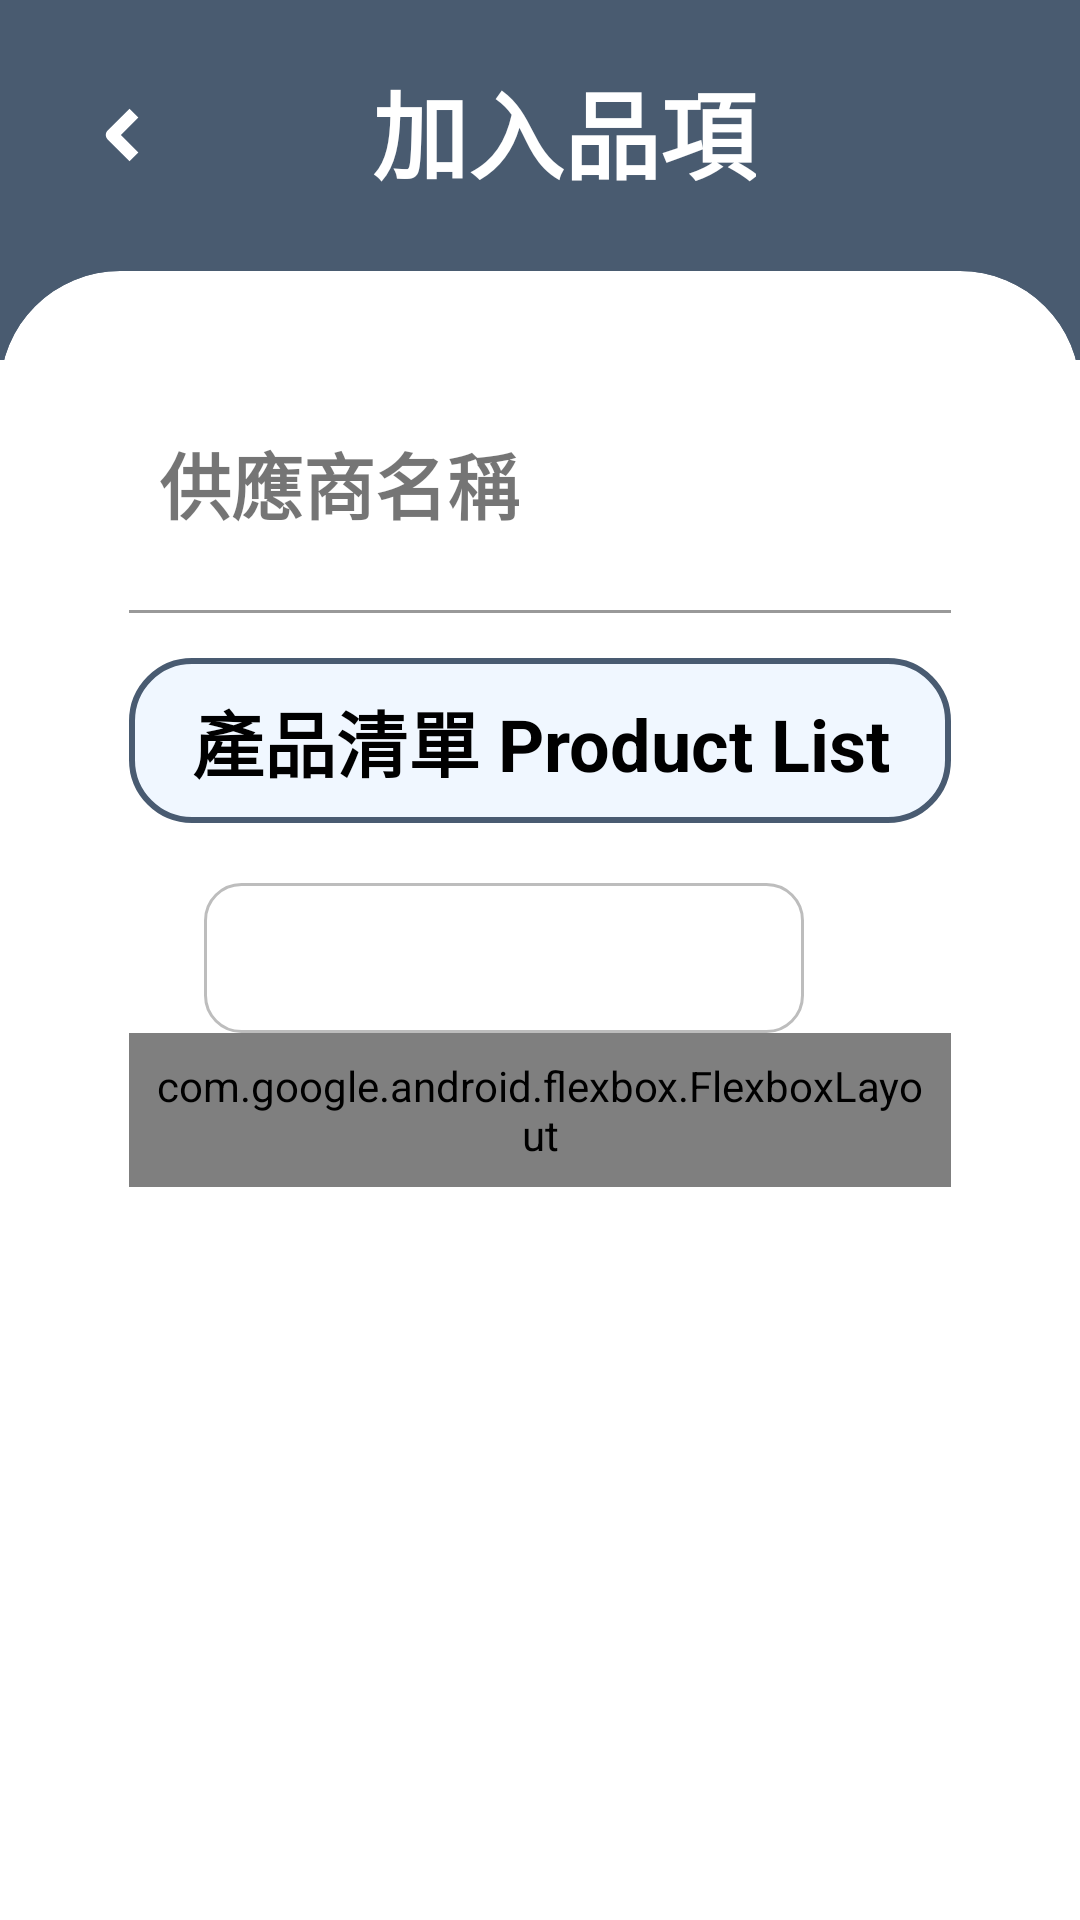

Screen size 1080px x 1920px. Icon name, then its center in pixels as (x=x, y=y):
back: (x=121, y=135)
